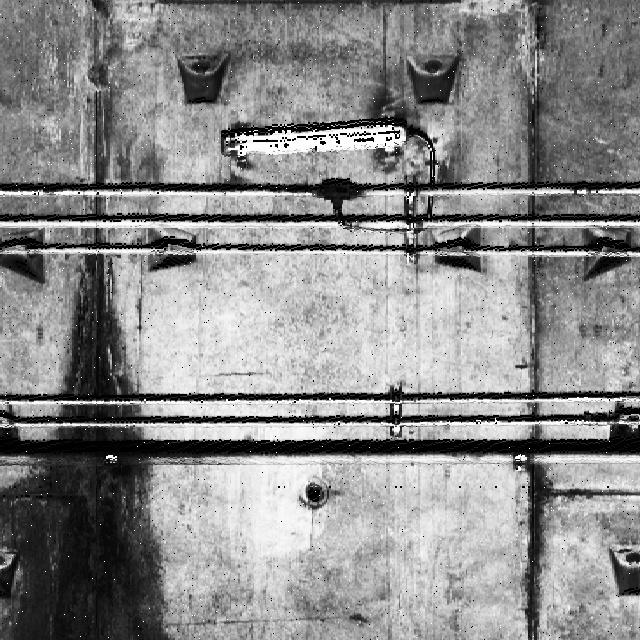leakage: (1, 186, 175, 640), (505, 464, 591, 640)
